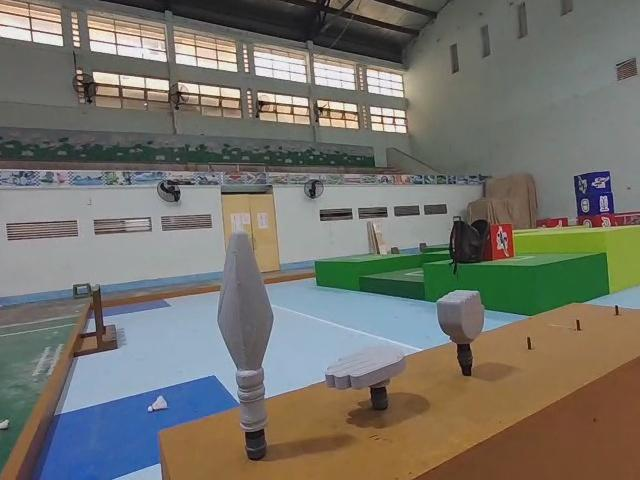Fist: (436, 287, 489, 378)
Hand: (323, 342, 408, 413)
Sph: (218, 231, 278, 469)
